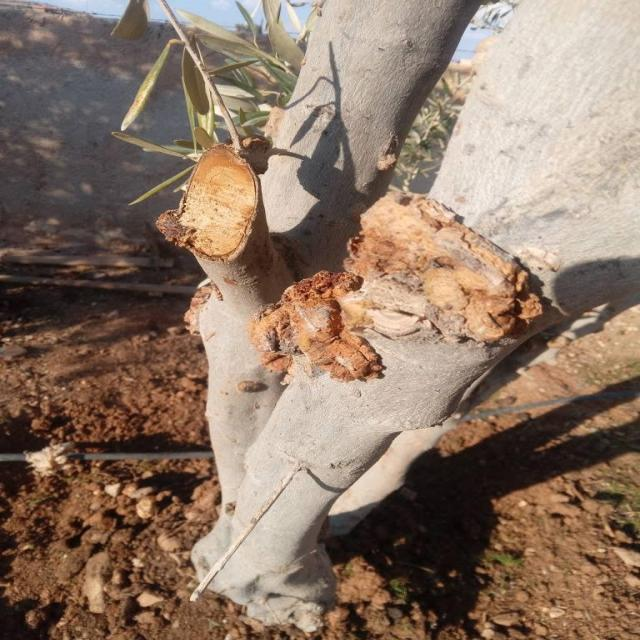Tuberculosis: (248, 271, 385, 382)
